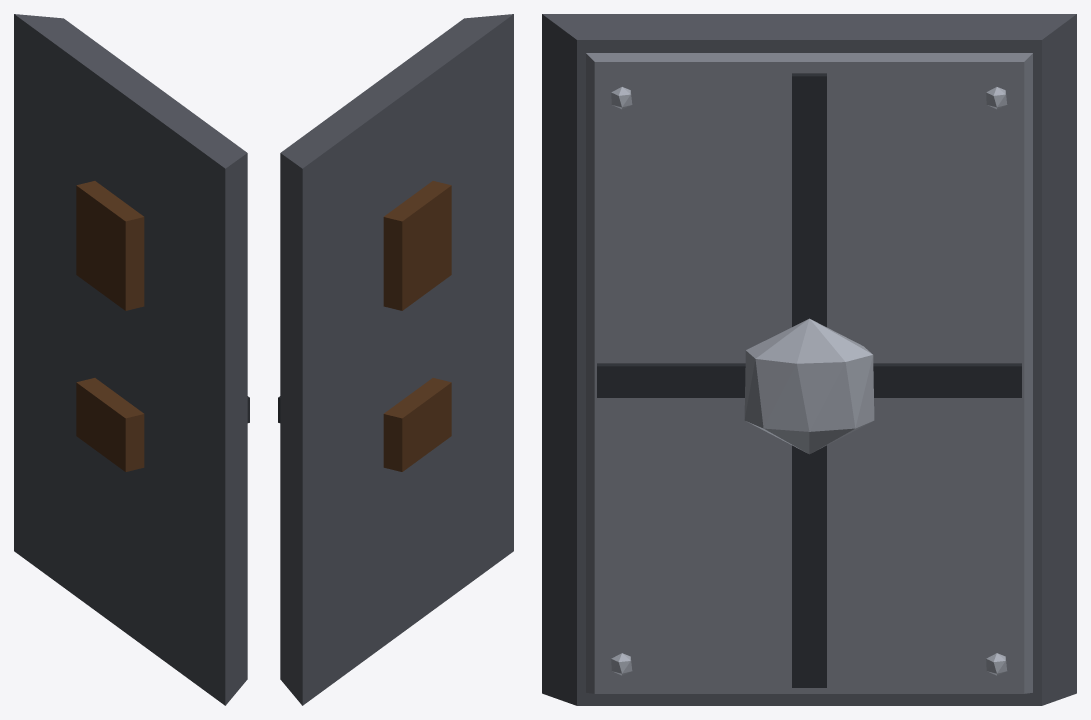
File: held_iron_squareshield.glb
3 views of the same model, side by side, from view 1: azimuth 30°, elevation 25°; view 2: azimuth 150°, elevation 25°; view 3: azimuth 270°, elevation 25° (orthographic). The views are drawn at different scales.
Parts seen in each view (by area): view 1: held_iron_squareshield; view 2: held_iron_squareshield; view 3: held_iron_squareshield.
Part boxes in pixels (x1,y1,x2,y2): held_iron_squareshield: (14,14,249,705); held_iron_squareshield: (278,14,513,705); held_iron_squareshield: (542,14,1076,705).
Bounding box in the file's own units: 0.1057 × 0.6 × 0.428.
